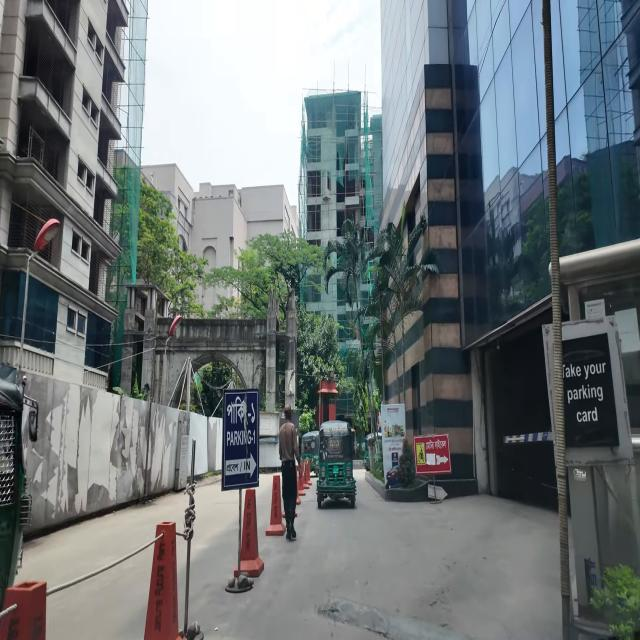person: (278, 406, 304, 542)
